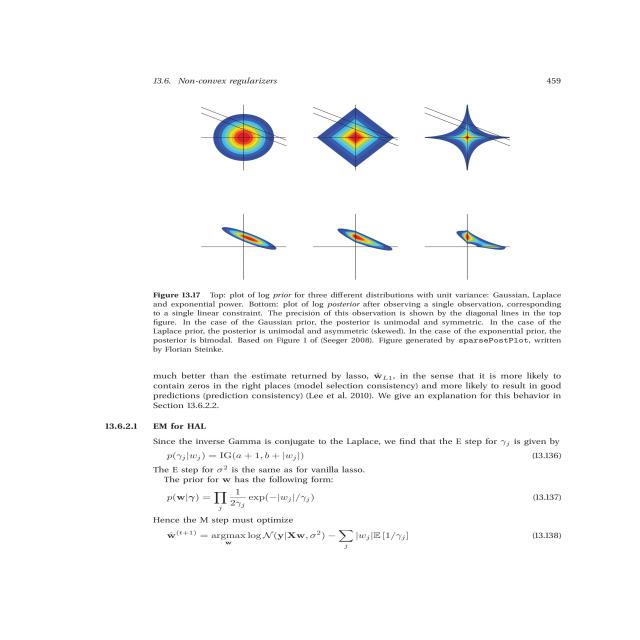diagram: (112, 100, 608, 363)
